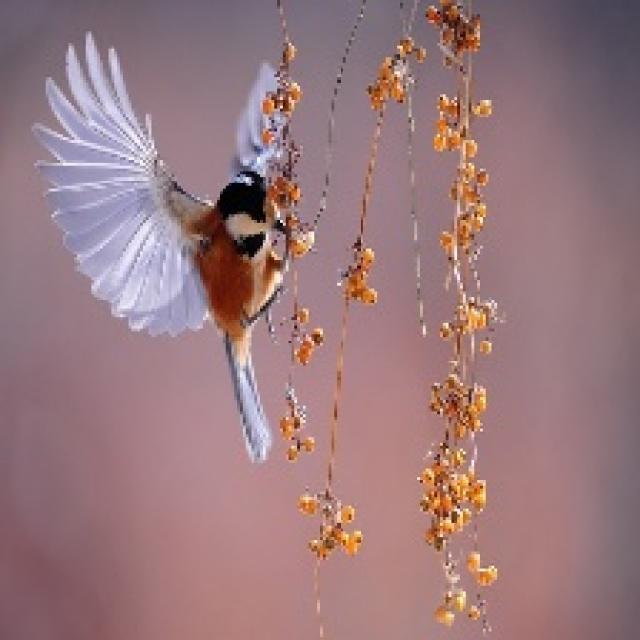animal: (53, 24, 380, 498)
